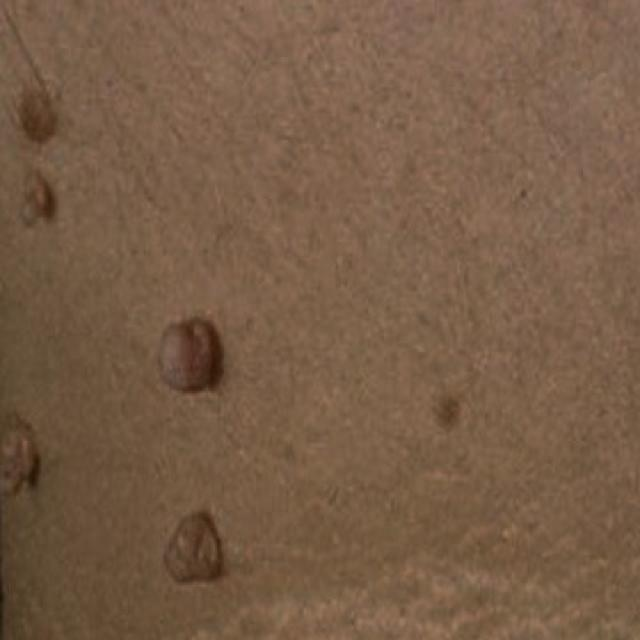wart: (137, 300, 240, 409), (0, 82, 66, 238), (136, 494, 244, 587), (0, 398, 53, 508)
